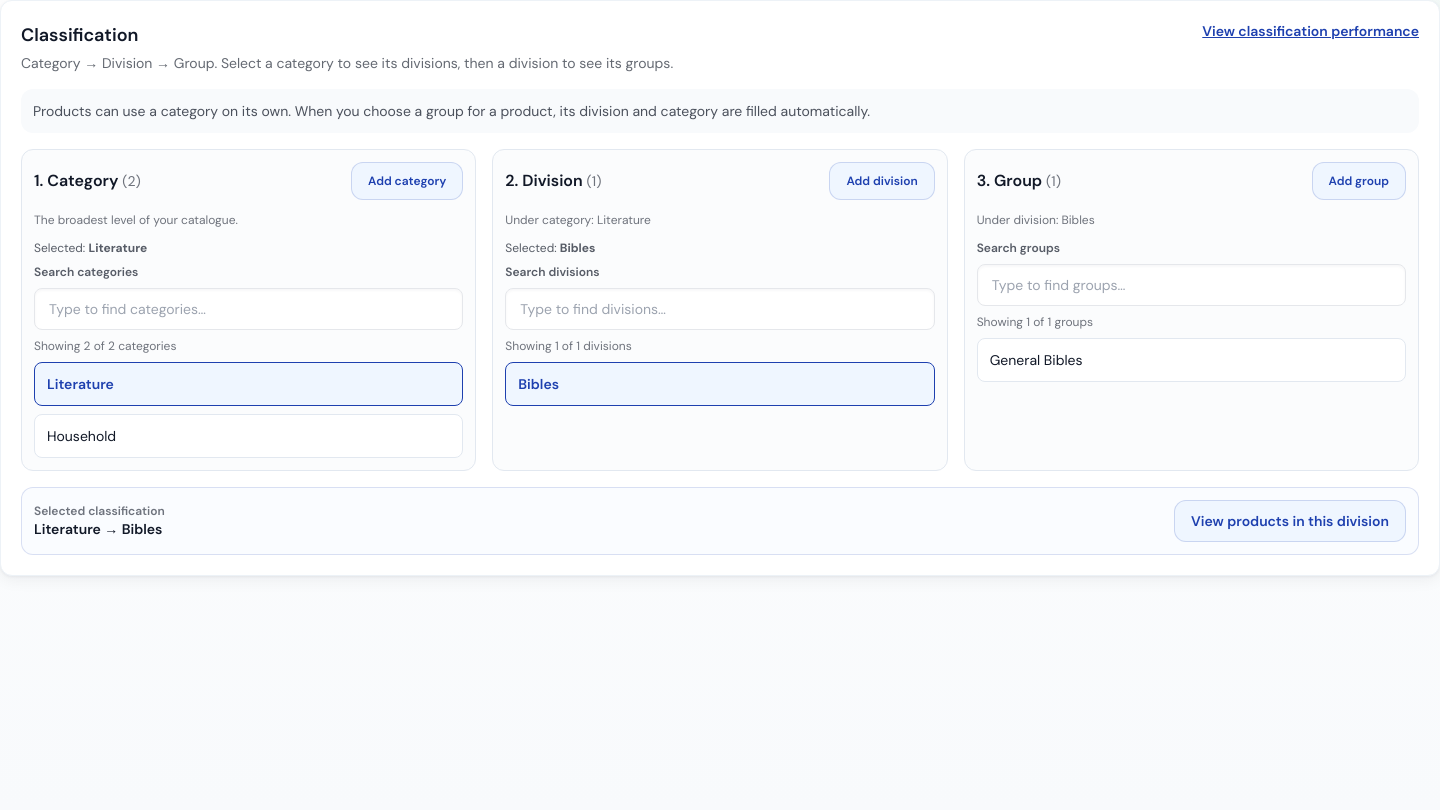
shows all three levels and only the selected parents children, with a link to their products
Check: the element named "Categories" is shown, box [21, 149, 476, 471]
Check: the button "Bibles" is shown, box [505, 362, 935, 406]
Click the button "General Bibles" at (1036, 360), box [977, 338, 1406, 382]
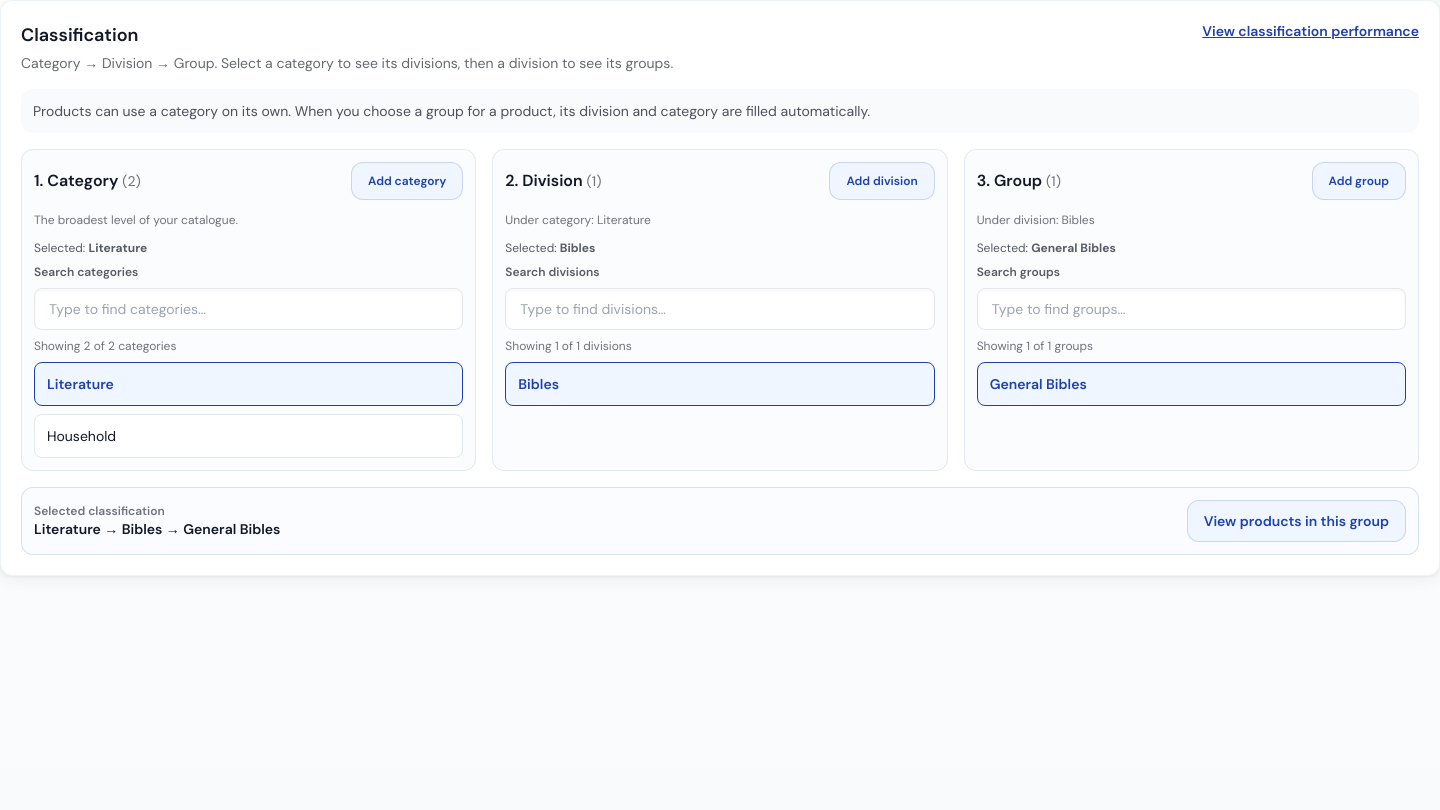
Check: the link "View products in this group" has attribute href="/products?tab=products&category=category&division=division&group=group", box [1187, 500, 1406, 542]
Click the button "Household" at (82, 436), box [34, 414, 463, 458]
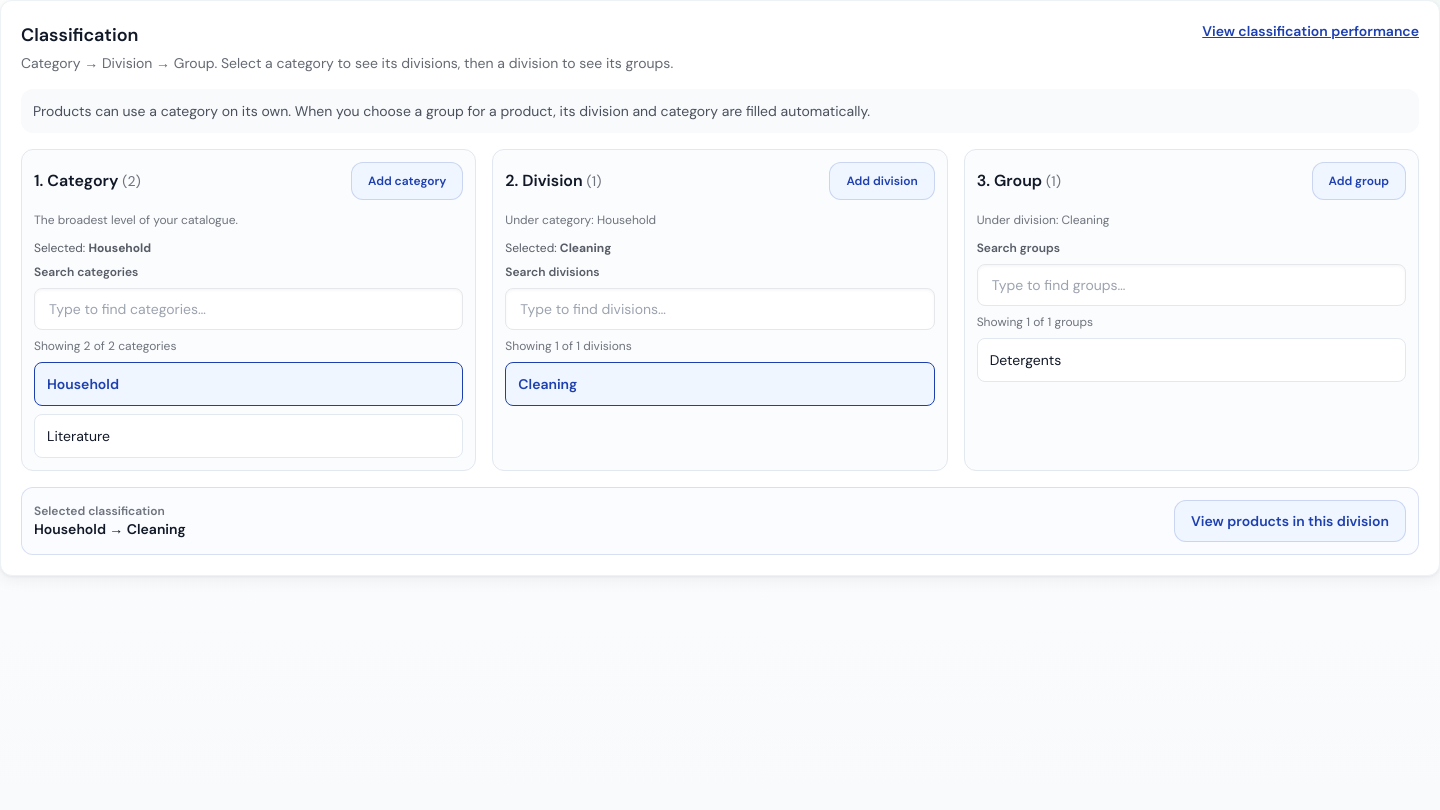
Check: the button "Cleaning" is shown, box [505, 362, 935, 406]
Check: the text "General Bibles" is gone
Check: the button "Detergents" is shown, box [977, 338, 1406, 382]
